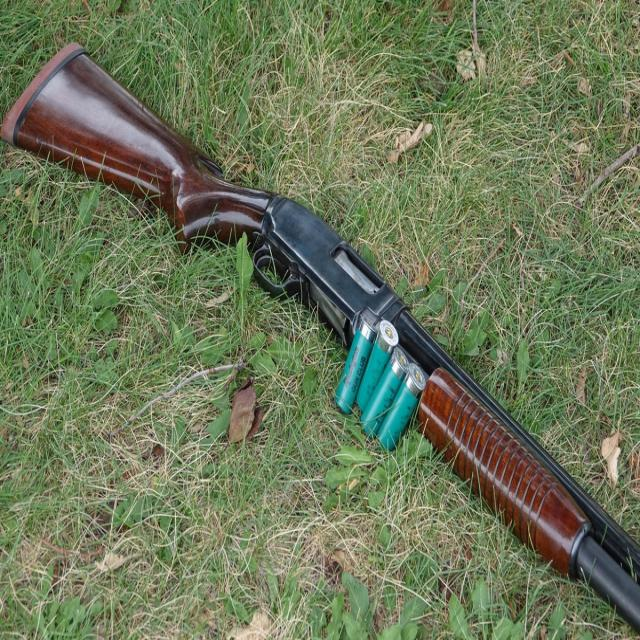ShotGun: (1, 44, 640, 637)
